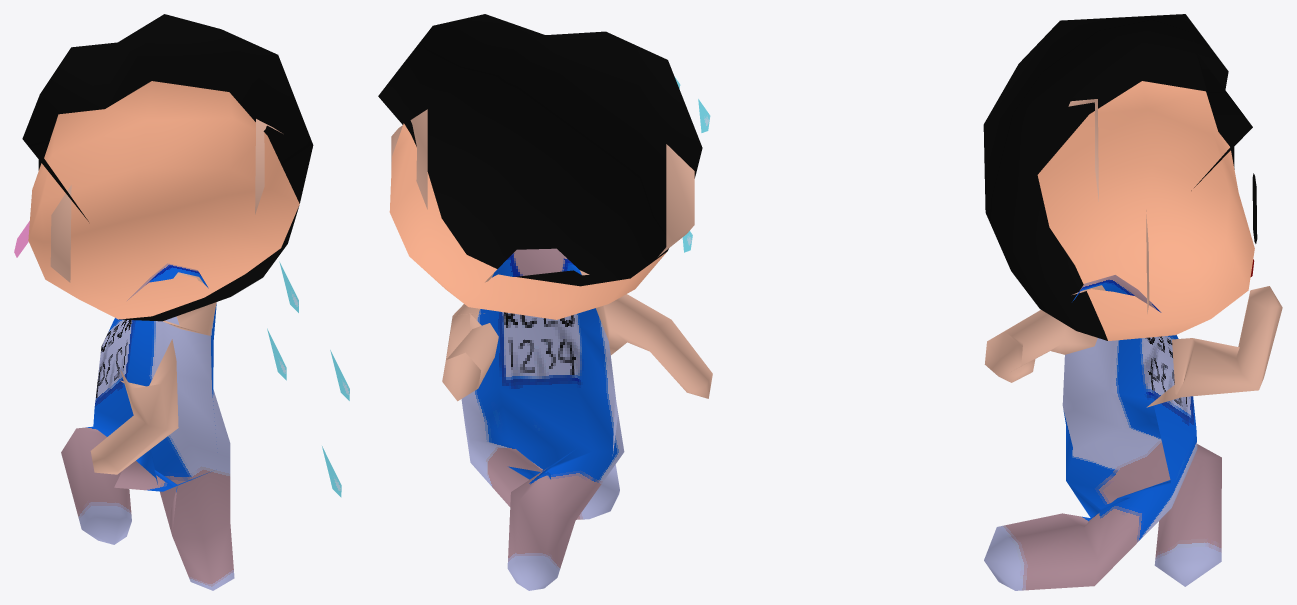
The model's file is ps2_save-icons_espninternationaltrackandfield.glb.
3 views of the same model, side by side, from view 1: azimuth 30°, elevation 25°; view 2: azimuth 150°, elevation 25°; view 3: azimuth 270°, elevation 25° (orthographic). The views are drawn at different scales.
Parts seen in each view (by area): view 1: icon_n.ico; view 2: icon_n.ico; view 3: icon_n.ico.
Part boxes in pixels (x1,y1,x2,y2): icon_n.ico: (14, 14, 349, 590); icon_n.ico: (378, 14, 712, 590); icon_n.ico: (983, 14, 1282, 590).
Bounding box in the file's own units: 2.15 × 3.95 × 3.5.
Materials: 1 (1 with a texture image).
